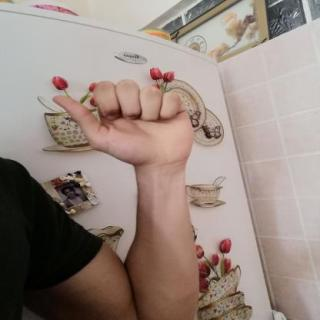DAD: (44, 74, 205, 174)
